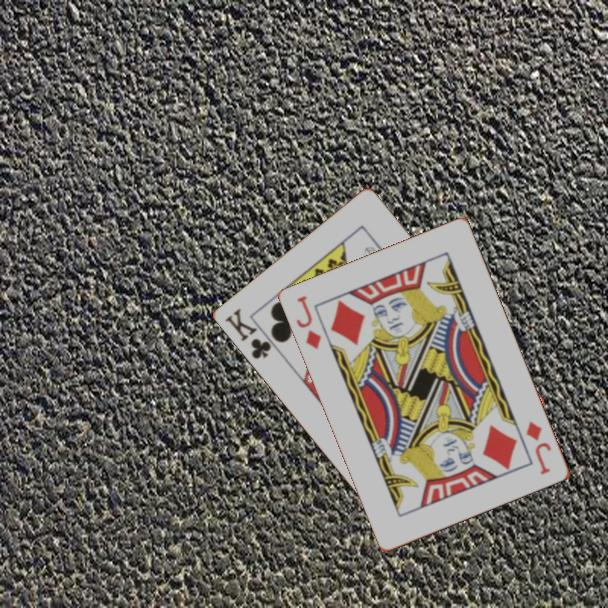c13: (221, 304, 275, 362)
d11: (523, 418, 555, 478), (293, 292, 325, 352)
